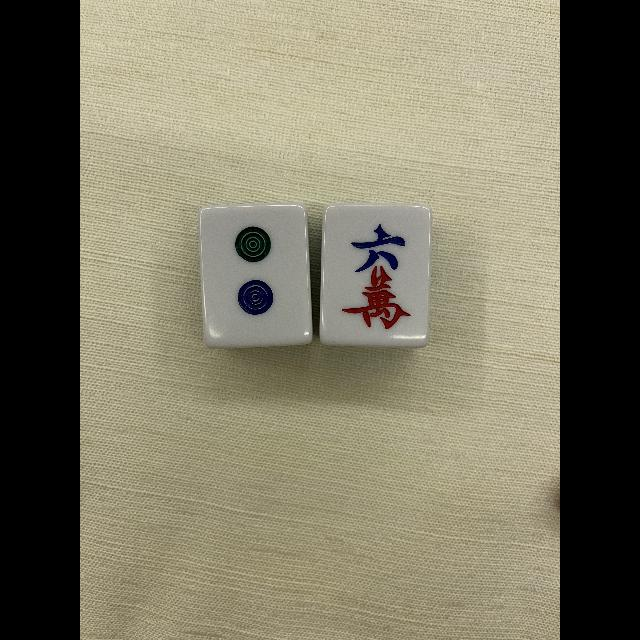c6: (322, 205, 428, 342)
d2: (204, 205, 308, 343)
